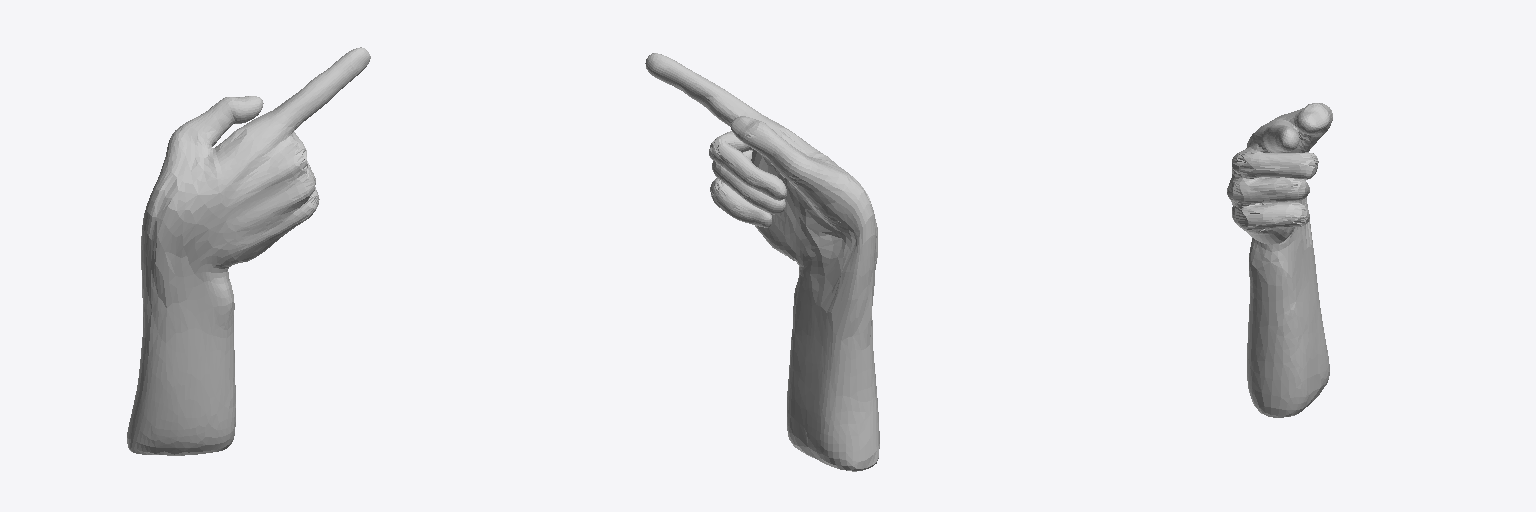
The model's file is maing.obj.
The picture shows the model from 3 angles: view 1: azimuth 30°, elevation 25°; view 2: azimuth 150°, elevation 25°; view 3: azimuth 270°, elevation 25°; orthographic projection.
Visible parts, largest first — view 1: ZBrush_defualt_group; view 2: ZBrush_defualt_group; view 3: ZBrush_defualt_group.
Boxes of the visible parts, <box> form: ZBrush_defualt_group: <box>127,47,370,455</box>; ZBrush_defualt_group: <box>645,53,879,471</box>; ZBrush_defualt_group: <box>1227,103,1332,417</box>.
Size of the model in its own units: 5.3 by 7.71 by 2.07.